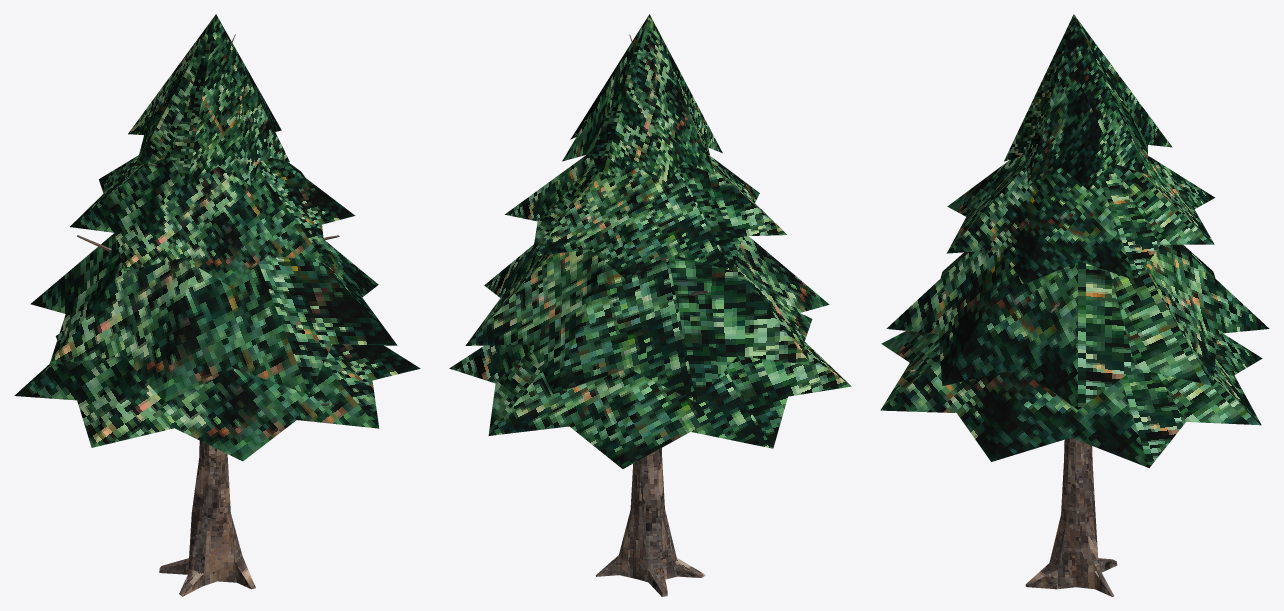
Rendered from alpine_tree_3.gltf.
3 views of the same model, side by side, from view 1: azimuth 30°, elevation 25°; view 2: azimuth 150°, elevation 25°; view 3: azimuth 270°, elevation 25° (orthographic).
Visible parts, largest first — view 1: PineLeaves.003, PineLeaves.001, PineLeaves.004, PineLeaves, Trunk-col; view 2: PineLeaves.003, PineLeaves.004, PineLeaves.001, PineLeaves, Trunk-col; view 3: PineLeaves.003, PineLeaves.004, PineLeaves.001, PineLeaves, Trunk-col.
Boxes of the visible parts, x1=… form: PineLeaves.003: x1=30, y1=233, x2=397, y2=402; PineLeaves.001: x1=70, y1=155, x2=355, y2=286; PineLeaves.004: x1=14, y1=334, x2=420, y2=461; PineLeaves: x1=128, y1=14, x2=289, y2=187; Trunk-col: x1=159, y1=441, x2=255, y2=596; PineLeaves.003: x1=465, y1=236, x2=829, y2=402; PineLeaves.004: x1=449, y1=313, x2=851, y2=468; PineLeaves.001: x1=505, y1=153, x2=786, y2=279; PineLeaves: x1=562, y1=14, x2=722, y2=186; Trunk-col: x1=595, y1=448, x2=705, y2=596; PineLeaves.003: x1=886, y1=244, x2=1269, y2=409; PineLeaves.004: x1=880, y1=331, x2=1262, y2=467; PineLeaves.001: x1=946, y1=155, x2=1214, y2=283; PineLeaves: x1=1004, y1=14, x2=1172, y2=189; Trunk-col: x1=1025, y1=437, x2=1117, y2=596.
Bounding box in the file's own units: 8.36 × 13.66 × 8.49.
Materials: 2 (2 with a texture image).
